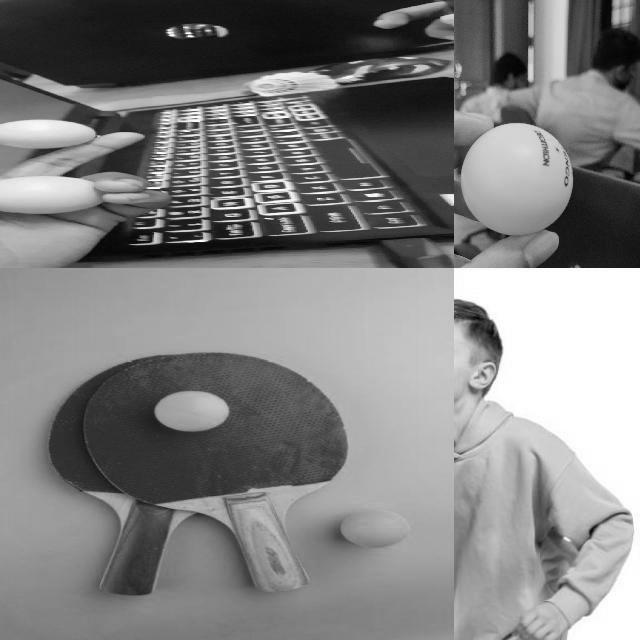ping-pong-ball: (460, 121, 572, 233), (0, 177, 100, 214), (154, 391, 230, 432), (0, 118, 103, 148), (340, 510, 410, 548)
